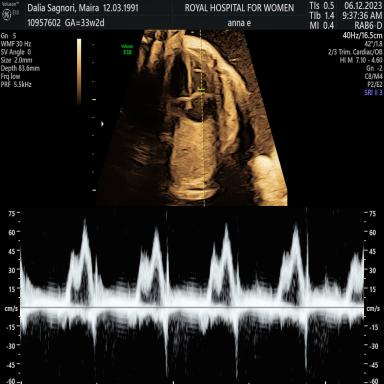Ultrasound-Waves: (26, 211, 363, 384)
